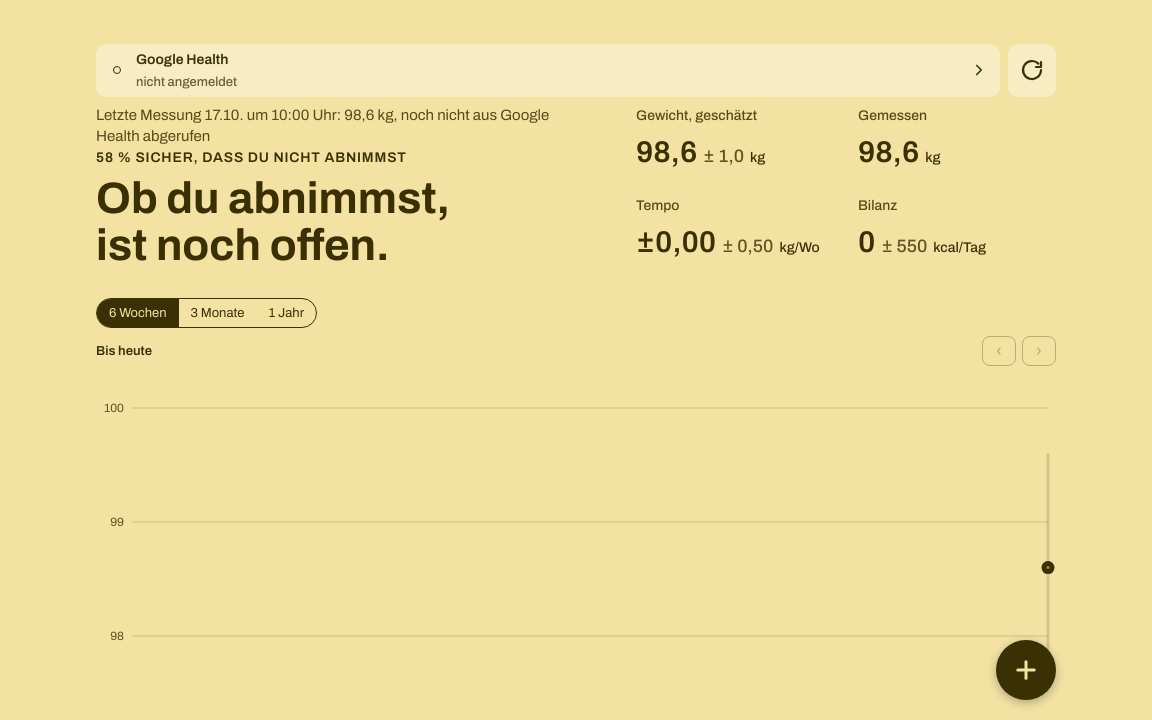
Test: an entered weight › that Google does not return is gone after a fetch starting an hour after it
Step 1. Click the button named "Anmelden und abrufen" → (1032, 70), box [1008, 44, 1056, 97]
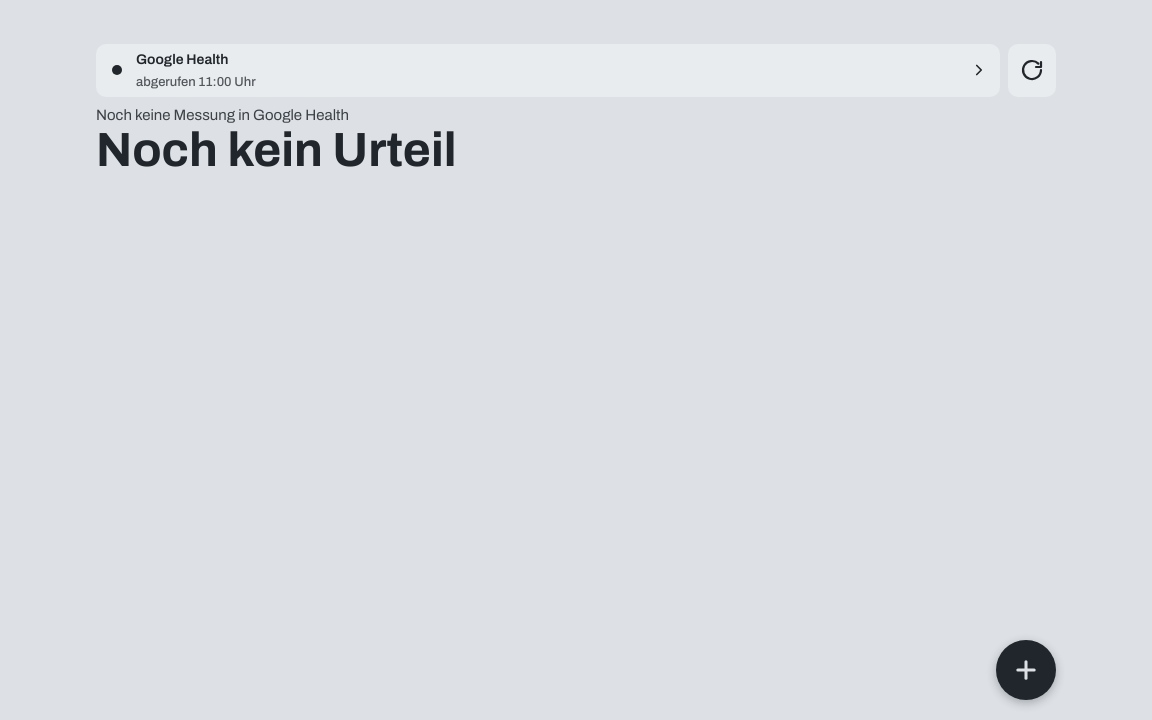
Now the text "Letzte Messung 17.10." is gone
